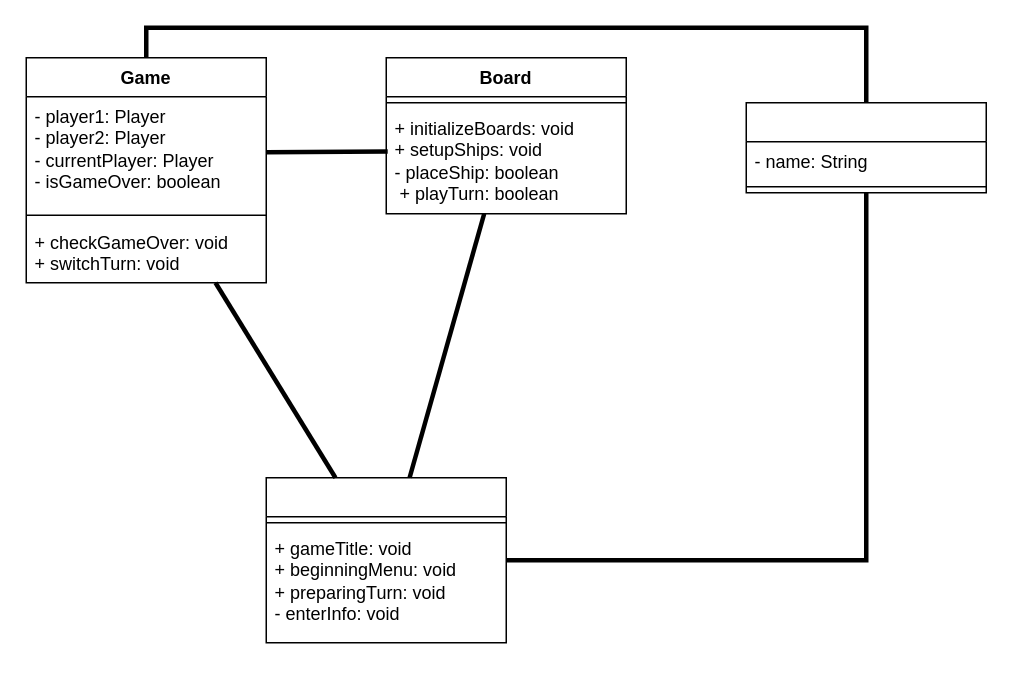
This 1013x674 diagram has some shape labels left out. Each missing label, with the box of its shape:
Player: (745, 101, 986, 193)
TextScreen: (265, 476, 506, 643)
